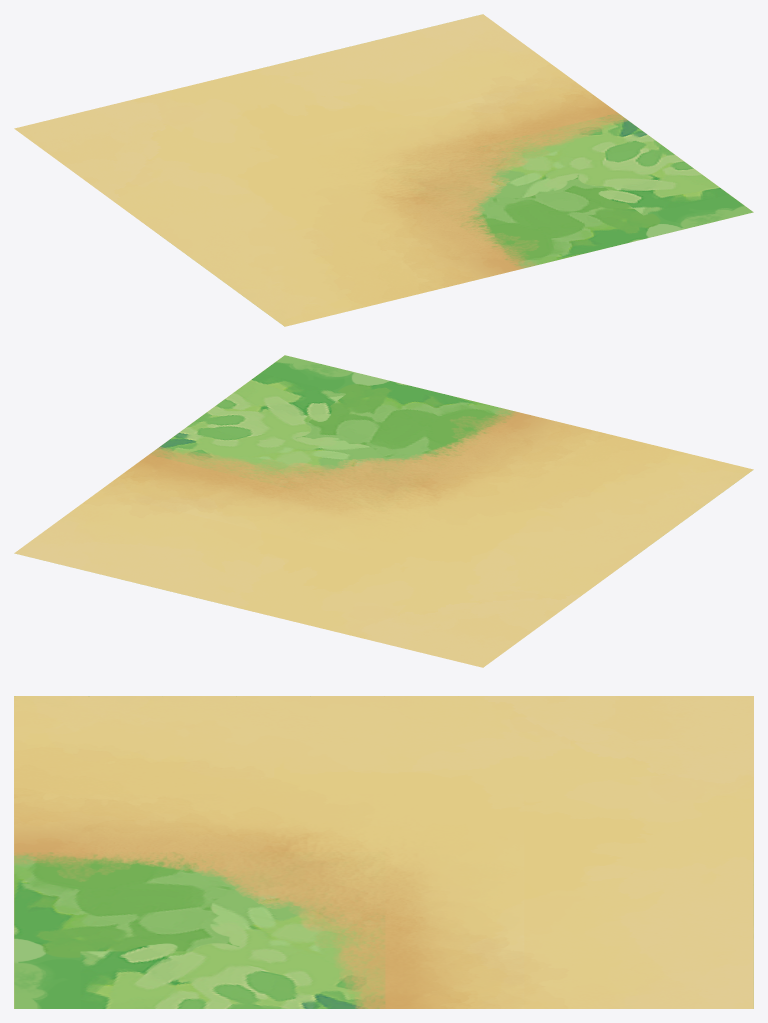
File: env_tiles_mesh_11.fbx
3 renders of one model, top to bottom at view 1: azimuth 30°, elevation 25°; view 2: azimuth 150°, elevation 25°; view 3: azimuth 270°, elevation 25°, orthographic. The views are drawn at different scales.
Visible parts, largest first — view 1: T11; view 2: T11; view 3: T11.
Boxes of the visible parts, x1,y1,x2,y2 form: T11: (14, 14, 753, 326); T11: (14, 355, 753, 667); T11: (14, 696, 753, 1008).
Size of the model in its own units: 1000 by 0 by 1000.
